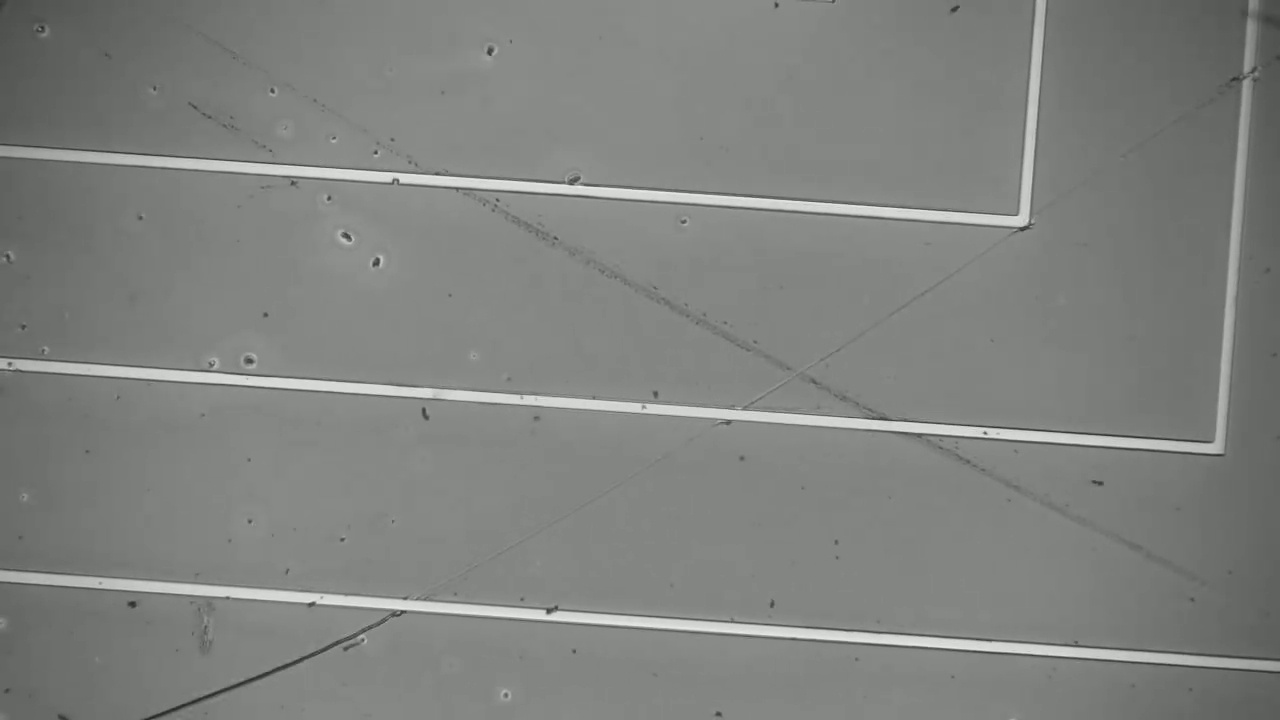edge_bite: (384, 162, 407, 190)
scratch: (331, 110, 1204, 574), (424, 231, 1023, 593), (1035, 71, 1257, 213), (147, 608, 394, 720)
stains_enbedded: (536, 599, 567, 632)
